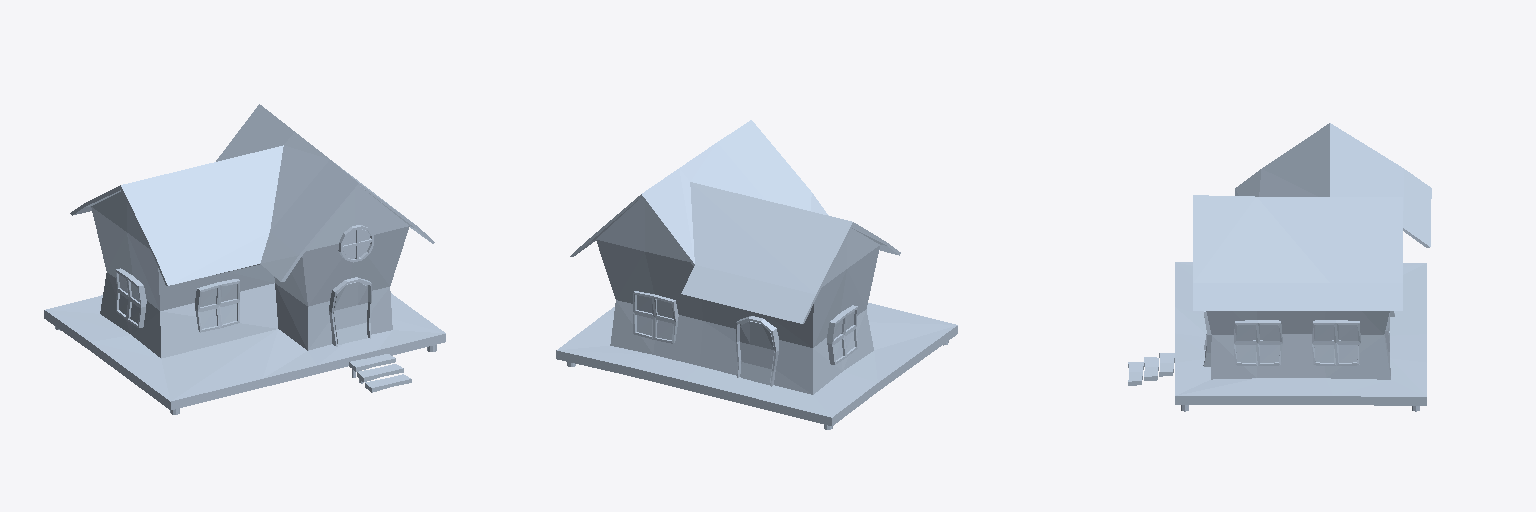
Rendered from casa.obj.
3 views of the same model, side by side, from view 1: azimuth 30°, elevation 25°; view 2: azimuth 150°, elevation 25°; view 3: azimuth 270°, elevation 25° (orthographic).
Visible parts, largest first — view 1: Casa; view 2: Casa; view 3: Casa.
Part boxes in pixels (bbox=[...]): Casa: bbox=[44, 104, 445, 414]; Casa: bbox=[556, 120, 957, 429]; Casa: bbox=[1128, 123, 1431, 411].
Bounding box in the file's own units: 1.37 × 0.8688 × 1.31.